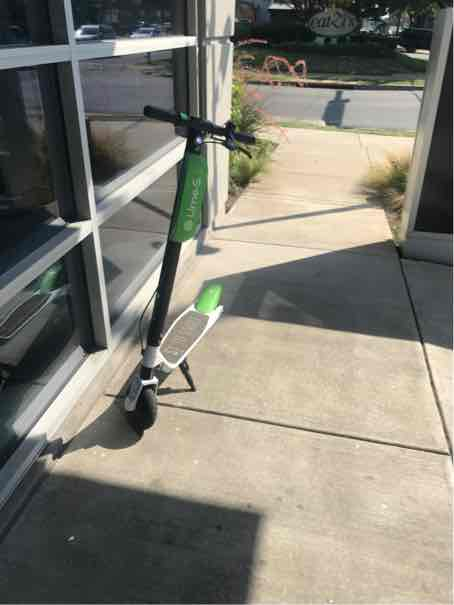scooter: (120, 102, 270, 439)
